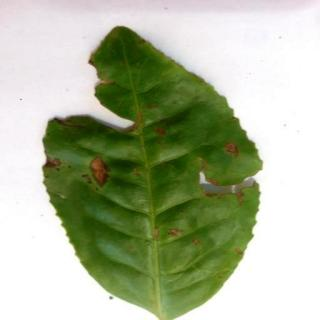Algal Leaf: (43, 28, 262, 320)
